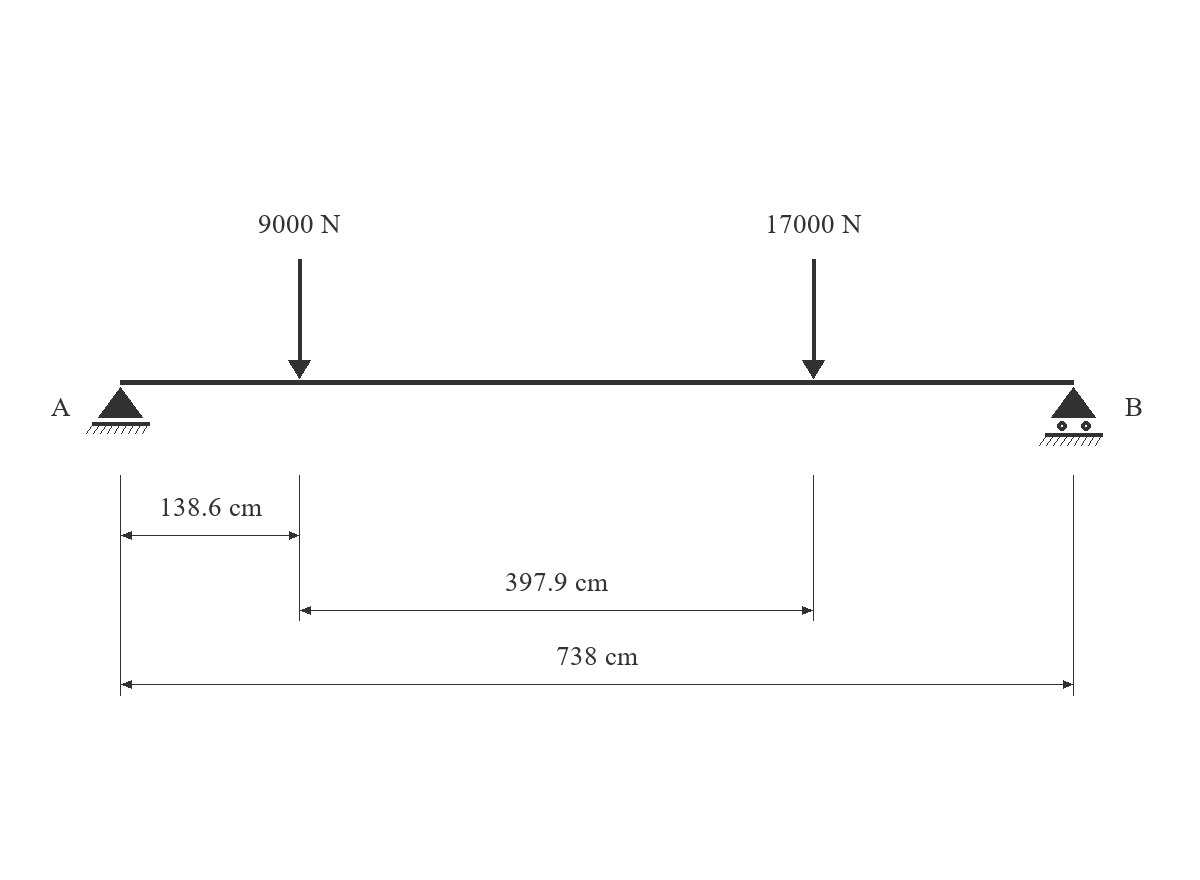pin_support: (86, 387, 150, 434)
point_load: (288, 259, 311, 379), (802, 259, 825, 379)
roller_support: (1039, 387, 1103, 446)
